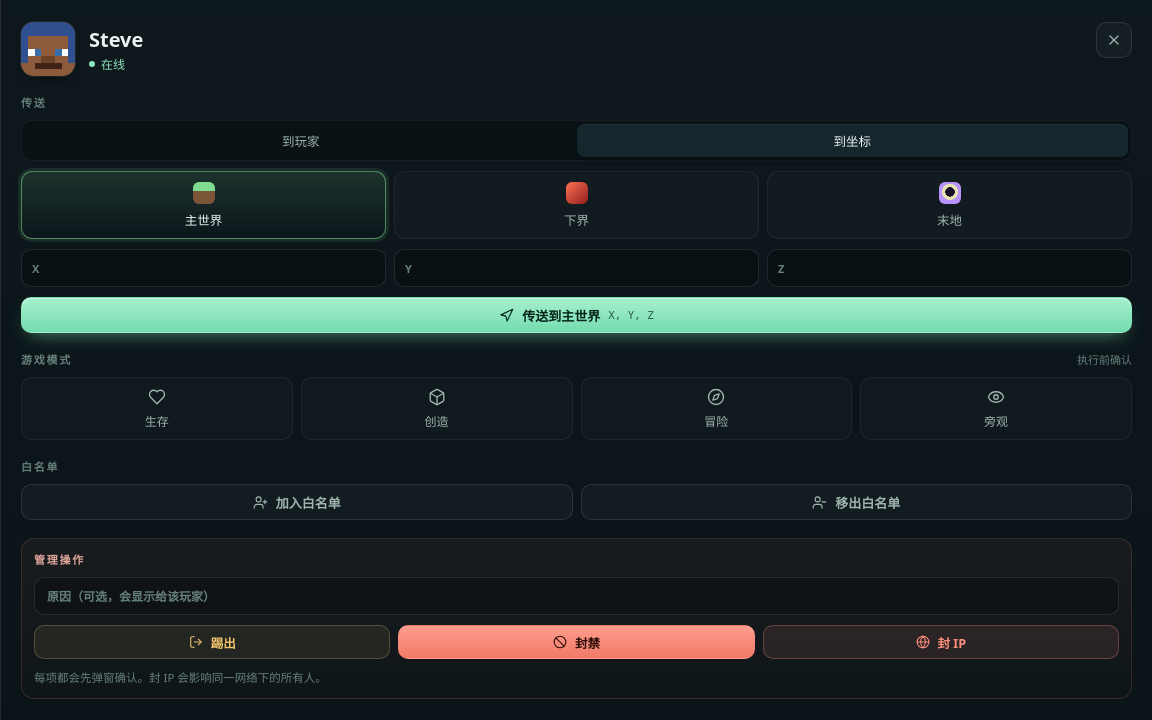
Test: online player › rejects missing coordinates before asking
Click the button "传送到主世界 X, Y, Z" at x=576, y=315, box [21,297,1132,333]
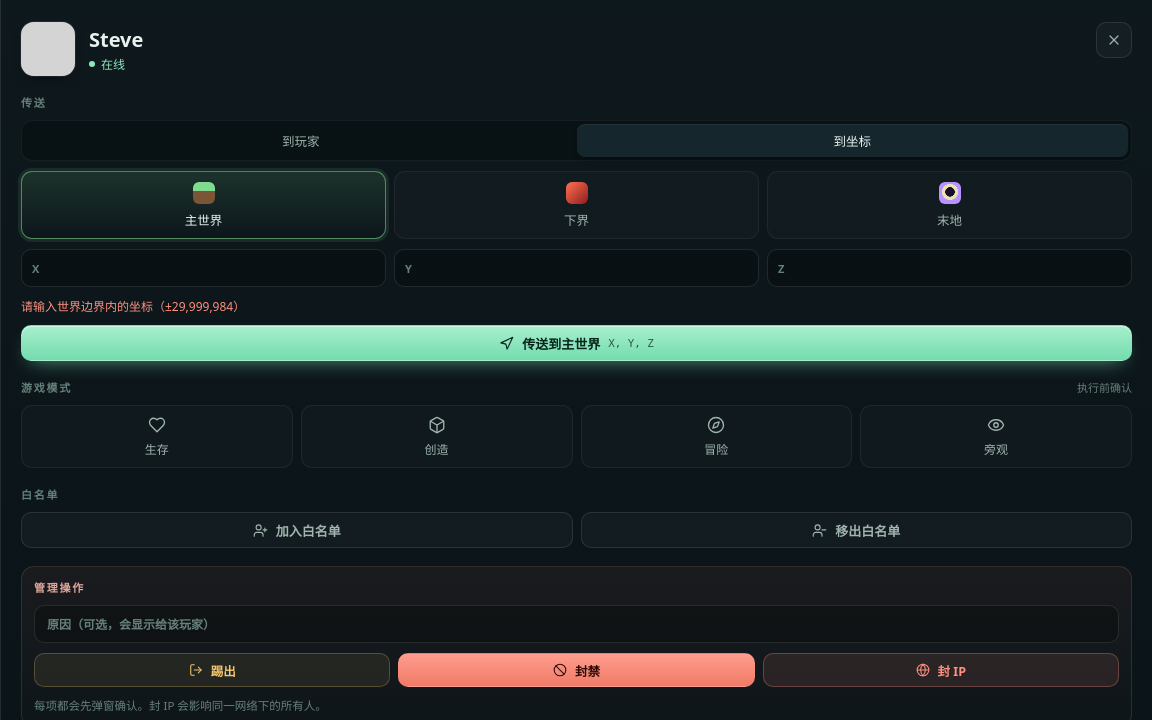
Expected: the text "请输入世界边界内的坐标（±29,999,984）" is shown, [21,298,245,315]
